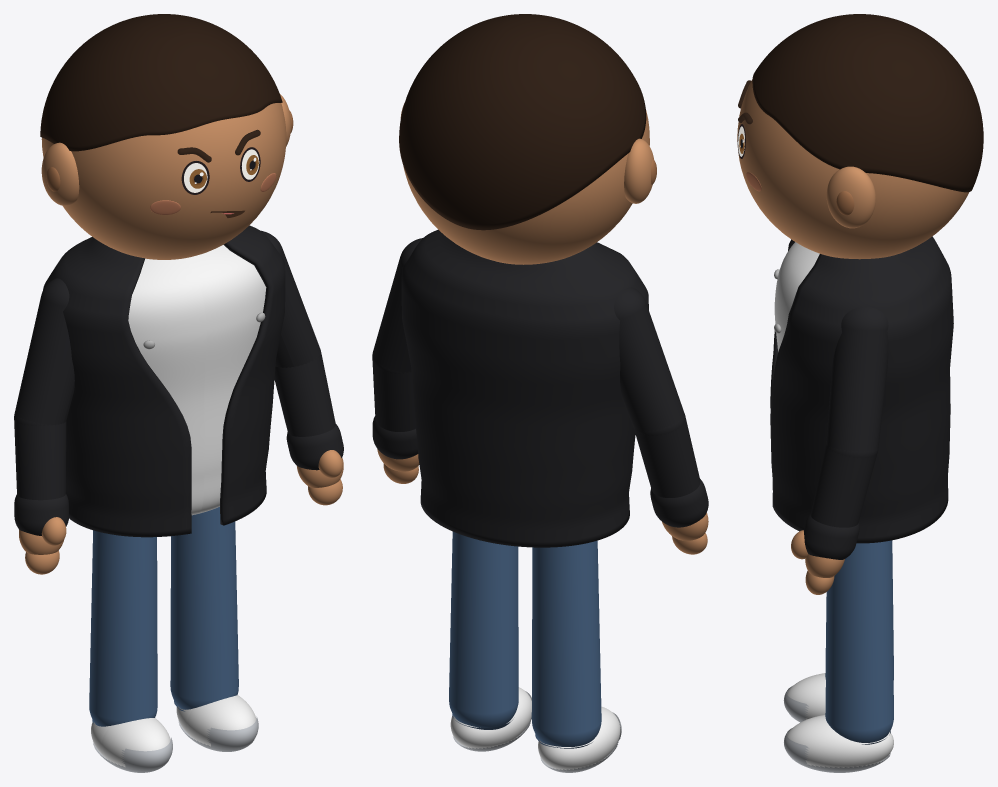
Rendered from pestkop.glb.
3 views of the same model, side by side, from view 1: azimuth 30°, elevation 25°; view 2: azimuth 150°, elevation 25°; view 3: azimuth 270°, elevation 25° (orthographic).
Parts seen in each view (by area): view 1: pestkop_jas, pestkop_haar, pestkop_hoofd, pestkop_romp, pestkop_been_R, pestkop_been_L, pestkop_bovenarm_R, pestkop_onderarm_R, pestkop_onderarm_L, pestkop_bovenarm_L, pestkop_schoen_R, pestkop_schoen_L (+10 smaller); view 2: pestkop_jas, pestkop_haar, pestkop_been_R, pestkop_been_L, pestkop_hoofd, pestkop_bovenarm_R, pestkop_onderarm_R, pestkop_bovenarm_L, pestkop_onderarm_L, pestkop_schoen_R, pestkop_schoen_L, pestkop_manchet_R (+3 smaller); view 3: pestkop_jas, pestkop_haar, pestkop_hoofd, pestkop_been_L, pestkop_bovenarm_L, pestkop_onderarm_L, pestkop_schoen_L, pestkop_oor_L, pestkop_romp, pestkop_manchet_L, pestkop_schoen_R, pestkop_hand_L (+4 smaller).
Part boxes in pixels (<box>): pestkop_jas: <box>43,225,285,537</box>; pestkop_haar: <box>40,14,282,151</box>; pestkop_hoofd: <box>41,103,286,259</box>; pestkop_romp: <box>128,245,266,515</box>; pestkop_been_R: <box>89,530,157,726</box>; pestkop_been_L: <box>170,507,238,709</box>; pestkop_bovenarm_R: <box>14,278,74,425</box>; pestkop_onderarm_R: <box>14,417,66,500</box>; pestkop_onderarm_L: <box>274,354,335,436</box>; pestkop_bovenarm_L: <box>261,230,320,367</box>; pestkop_schoen_R: <box>91,718,170,767</box>; pestkop_schoen_L: <box>176,695,256,746</box>; pestkop_jas: <box>401,229,648,547</box>; pestkop_haar: <box>399,14,646,230</box>; pestkop_been_R: <box>531,540,601,746</box>; pestkop_been_L: <box>449,531,518,727</box>; pestkop_hoofd: <box>403,110,649,264</box>; pestkop_bovenarm_R: <box>614,287,684,435</box>; pestkop_onderarm_R: <box>634,418,700,497</box>; pestkop_bovenarm_L: <box>373,238,422,372</box>; pestkop_onderarm_L: <box>372,356,415,431</box>; pestkop_schoen_R: <box>538,706,620,770</box>; pestkop_schoen_L: <box>450,687,531,748</box>; pestkop_manchet_R: <box>650,479,708,527</box>; pestkop_jas: <box>770,236,953,543</box>; pestkop_haar: <box>752,14,983,192</box>; pestkop_hoofd: <box>737,79,969,259</box>; pestkop_been_L: <box>825,540,893,742</box>; pestkop_bovenarm_L: <box>826,307,888,457</box>; pestkop_onderarm_L: <box>810,445,878,527</box>; pestkop_schoen_L: <box>787,715,893,767</box>; pestkop_oor_L: <box>826,166,875,228</box>; pestkop_romp: <box>774,242,819,351</box>; pestkop_manchet_L: <box>803,513,859,559</box>; pestkop_schoen_R: <box>787,673,825,719</box>; pestkop_hand_L: <box>805,554,844,577</box>.
Bounding box in the file's own units: 0.8484 × 1.82 × 0.5613.
